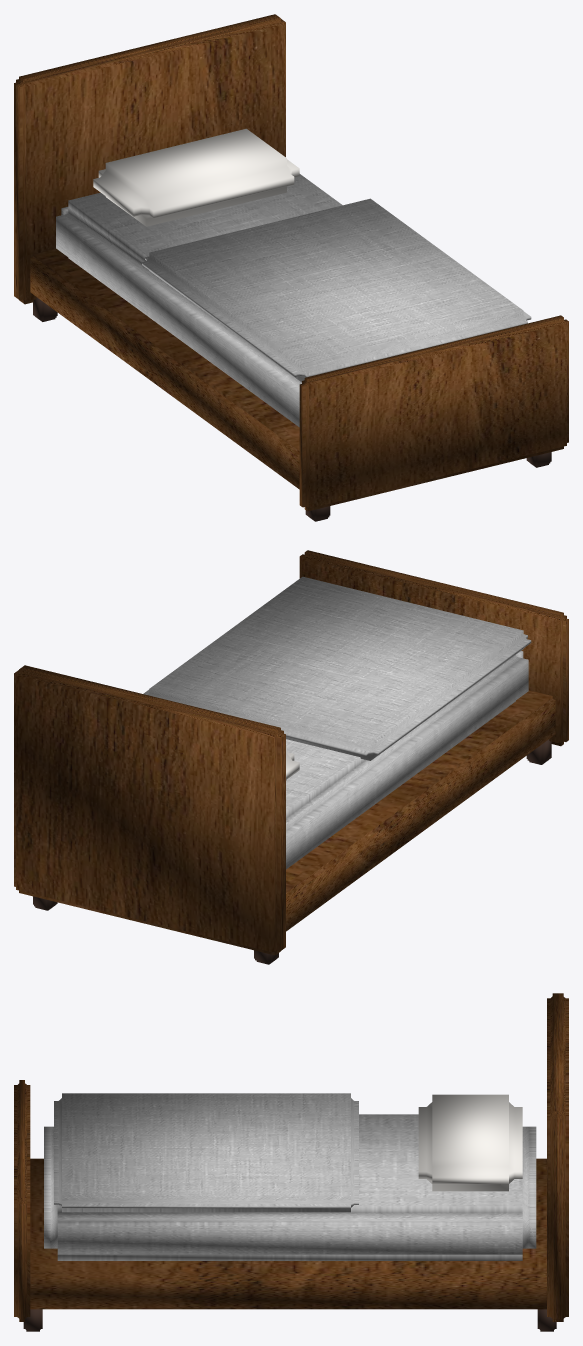
File: bed-vono-single.glb
3 views of the same model, one above another, from view 1: azimuth 30°, elevation 25°; view 2: azimuth 150°, elevation 25°; view 3: azimuth 270°, elevation 25° (orthographic). The views are drawn at different scales.
Visible parts, largest first — view 1: Duvet, Foot, Head, Mattress, Rail, Pillow; view 2: Head, Duvet, Rail, Mattress, Foot; view 3: Duvet, Mattress, Rail, Pillow, Head, Foot.
Boxes of the visible parts, x1,y1,x2,y2 form: Duvet: [142, 198, 531, 382]; Foot: [299, 315, 568, 511]; Head: [14, 14, 285, 304]; Mattress: [56, 174, 342, 427]; Rail: [30, 248, 299, 489]; Pillow: [93, 128, 299, 226]; Head: [14, 665, 285, 955]; Duvet: [143, 576, 531, 760]; Rail: [286, 690, 555, 931]; Mattress: [286, 651, 528, 869]; Foot: [299, 550, 568, 746]; Duvet: [54, 1093, 358, 1212]; Mattress: [44, 1114, 536, 1260]; Rail: [30, 1158, 546, 1309]; Pillow: [418, 1094, 522, 1191]; Head: [547, 993, 568, 1321]; Foot: [14, 1080, 30, 1321].
Bounding box in the file's own units: 1.43 × 1.23 × 2.74.
4 materials, 2 textured.
